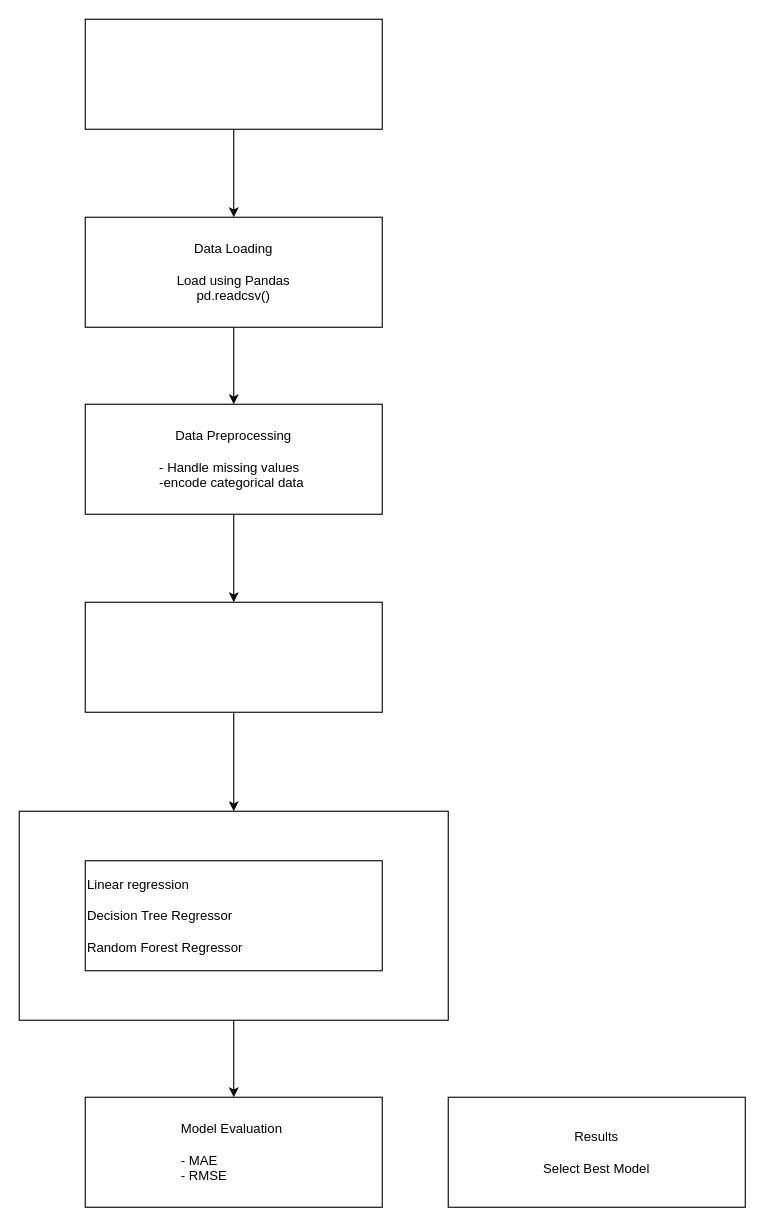
Image size: 765x1227. Some labels were removed from this diagram. The shapes that lost their labels are listed below. From the top down, each one's box as (x1, y1, x2, y2) in pixels, then its label:
(84, 18, 382, 129): Dataset selection House Prices Dataset
(84, 601, 382, 712): Train and Test split 80% training 20% testing
(18, 810, 448, 1020): Regression models
